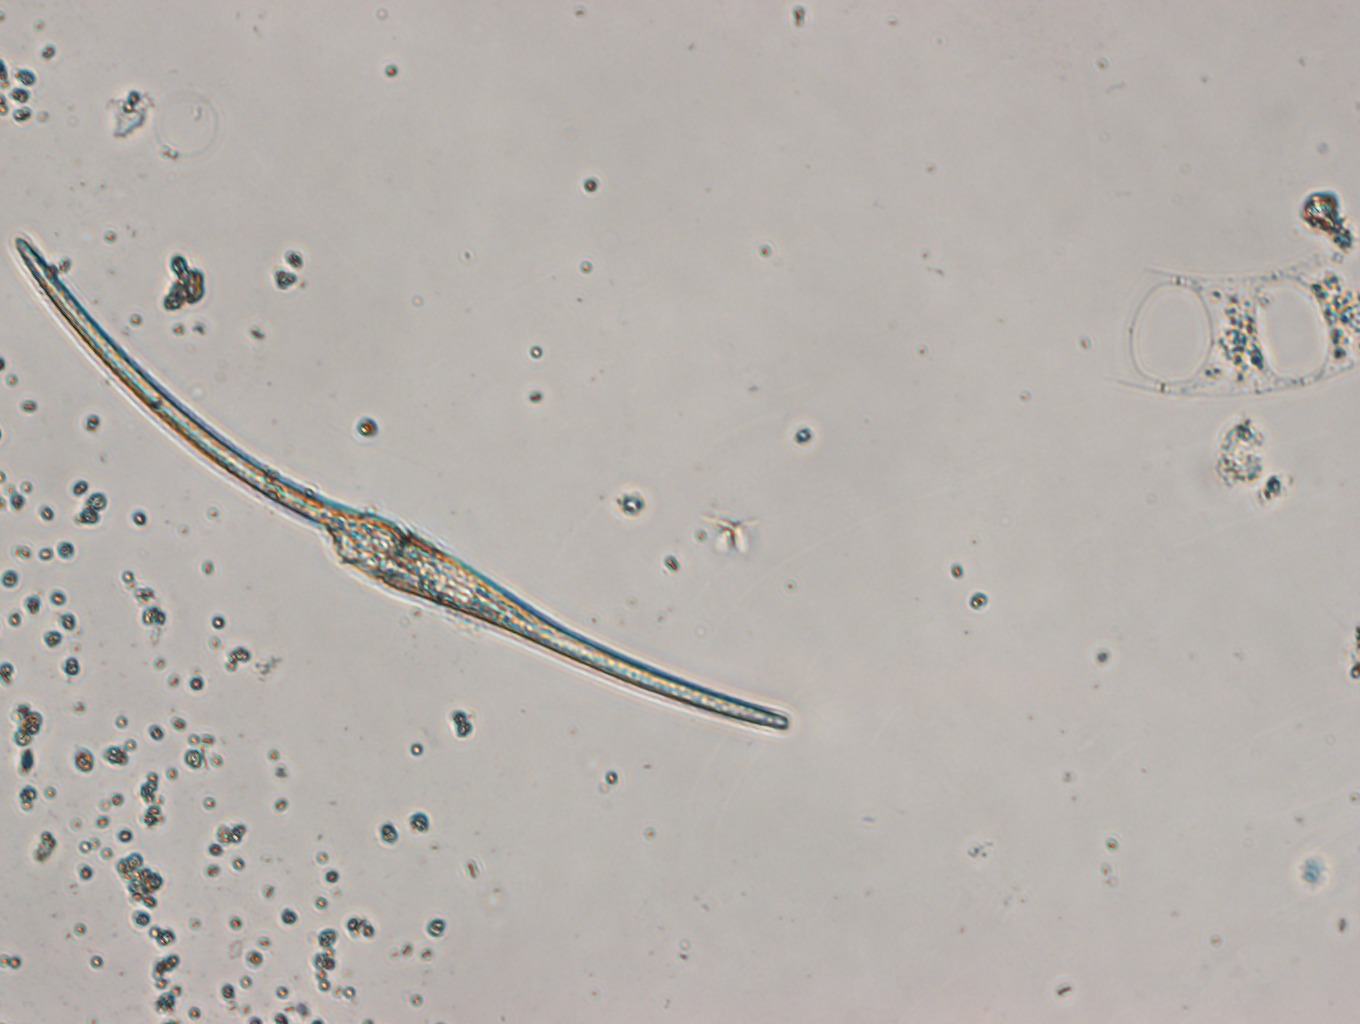ceratium fusus: (10, 234, 791, 734)
eucampia: (1107, 248, 1360, 397)
